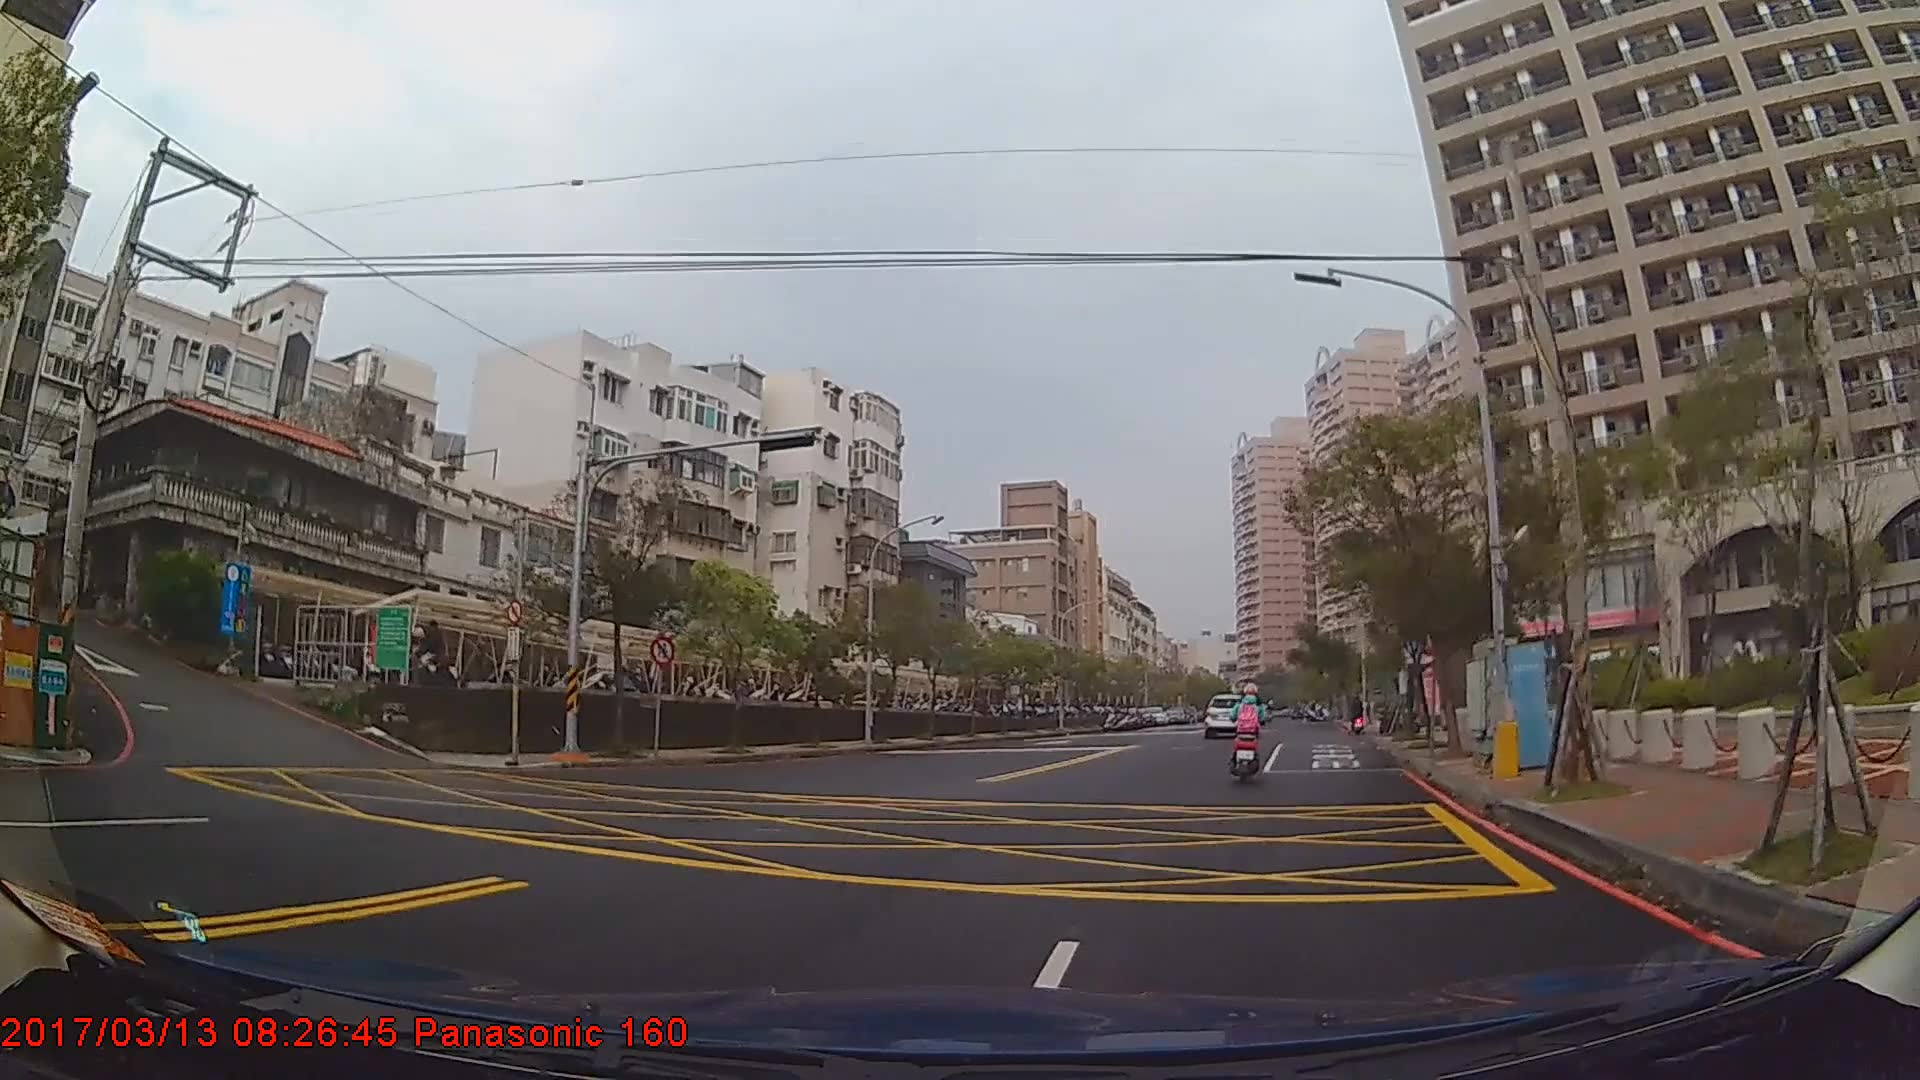rider: (1225, 680, 1272, 782)
vehicle: (1201, 691, 1248, 737)
